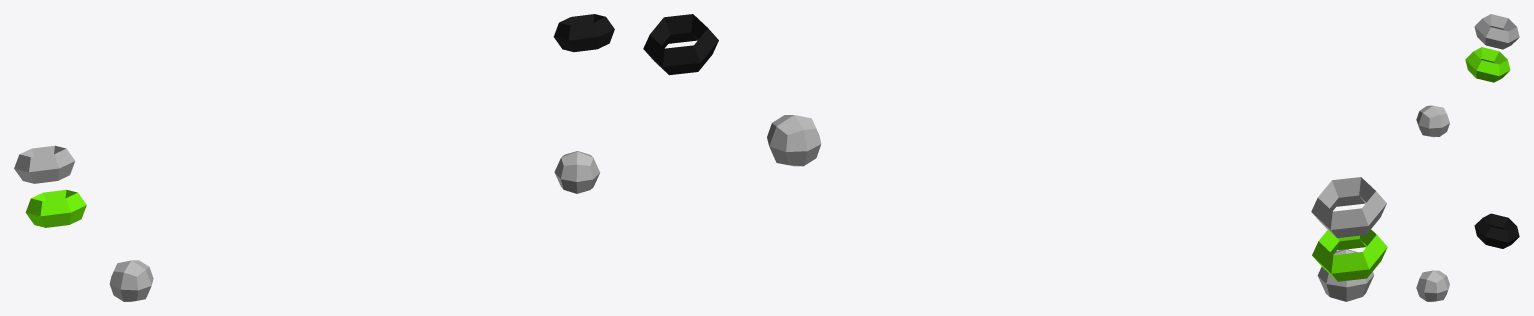
The model's file is SM_Chr_Attach_Earring_01.fbx.
The picture shows the model from 3 angles, left to right: view 1: azimuth 30°, elevation 25°; view 2: azimuth 150°, elevation 25°; view 3: azimuth 270°, elevation 25°; orthographic projection. The views are drawn at different scales.
Parts seen in each view (by area): view 1: SM_Chr_Attach_Earring_01; view 2: SM_Chr_Attach_Earring_01; view 3: SM_Chr_Attach_Earring_01.
Boxes of the visible parts, x1,y1,x2,y2 form: SM_Chr_Attach_Earring_01: [14, 14, 614, 301]; SM_Chr_Attach_Earring_01: [643, 14, 1387, 301]; SM_Chr_Attach_Earring_01: [1416, 14, 1519, 301].
Size of the model in its own units: 29.48 by 6.48 by 5.95.
